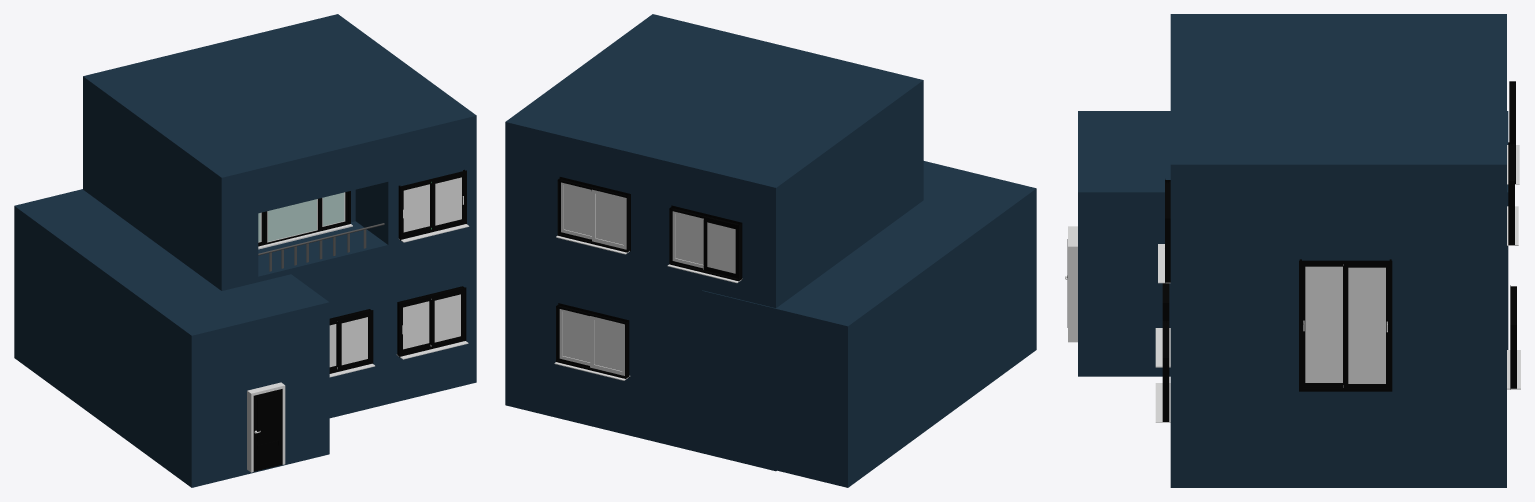
3 renders of one model, left to right at view 1: azimuth 30°, elevation 25°; view 2: azimuth 150°, elevation 25°; view 3: azimuth 270°, elevation 25°, orthographic. The views are drawn at different scales.
Parts seen in each view (by area): view 1: Cube, Cube.001, Window, Door, Window.R.005, Window.R.004, Window.R.003, Window.L.004, Window.L.003, DoorFrame, WindowFrame.001, WindowFrame.003 (+1 smaller); view 2: Cube, Cube.001, Window.L, Window.L.006, Window.L.008, Window.R.006, Window.R.008, Window.R, WindowFrame, WindowFrame.008, WindowFrame.010; view 3: Cube, Cube.001, Window.R.001, Window.L.001, WindowFrame.004, DoorFrame, WindowFrame.001, WindowFrame.010, WindowFrame, WindowFrame.003.
Part boxes in pixels (x1=…): Cube: x1=83, y1=14, x2=476, y2=418; Cube.001: x1=14, y1=189, x2=329, y2=487; Window: x1=258, y1=191, x2=352, y2=249; Door: x1=253, y1=389, x2=282, y2=471; Window.R.005: x1=337, y1=313, x2=370, y2=369; Window.R.004: x1=430, y1=291, x2=463, y2=346; Window.R.003: x1=431, y1=174, x2=464, y2=229; Window.L.004: x1=402, y1=299, x2=430, y2=352; Window.L.003: x1=403, y1=182, x2=431, y2=235; DoorFrame: x1=247, y1=382, x2=285, y2=472; WindowFrame.001: x1=397, y1=286, x2=466, y2=357; WindowFrame.003: x1=398, y1=169, x2=466, y2=240; Cube: x1=505, y1=14, x2=923, y2=471; Cube.001: x1=701, y1=161, x2=1036, y2=487; Window.L: x1=591, y1=189, x2=626, y2=249; Window.L.006: x1=703, y1=218, x2=737, y2=278; Window.L.008: x1=590, y1=316, x2=624, y2=375; Window.R.006: x1=672, y1=211, x2=703, y2=268; Window.R.008: x1=559, y1=309, x2=590, y2=365; Window.R: x1=561, y1=182, x2=591, y2=239; WindowFrame: x1=557, y1=177, x2=630, y2=252; WindowFrame.008: x1=669, y1=205, x2=742, y2=281; WindowFrame.010: x1=556, y1=303, x2=629, y2=378; Cube: x1=1170, y1=14, x2=1506, y2=487; Cube.001: x1=1078, y1=111, x2=1508, y2=376; Window.R.001: x1=1343, y1=264, x2=1388, y2=387; Window.L.001: x1=1302, y1=264, x2=1343, y2=386; WindowFrame.004: x1=1299, y1=259, x2=1392, y2=391; DoorFrame: x1=1068, y1=226, x2=1077, y2=342; WindowFrame.001: x1=1162, y1=319, x2=1169, y2=421; WindowFrame.010: x1=1510, y1=285, x2=1516, y2=389; WindowFrame: x1=1508, y1=142, x2=1514, y2=244; WindowFrame.003: x1=1165, y1=179, x2=1170, y2=283.
Bounding box in the file's own units: 493 × 385 × 492.
